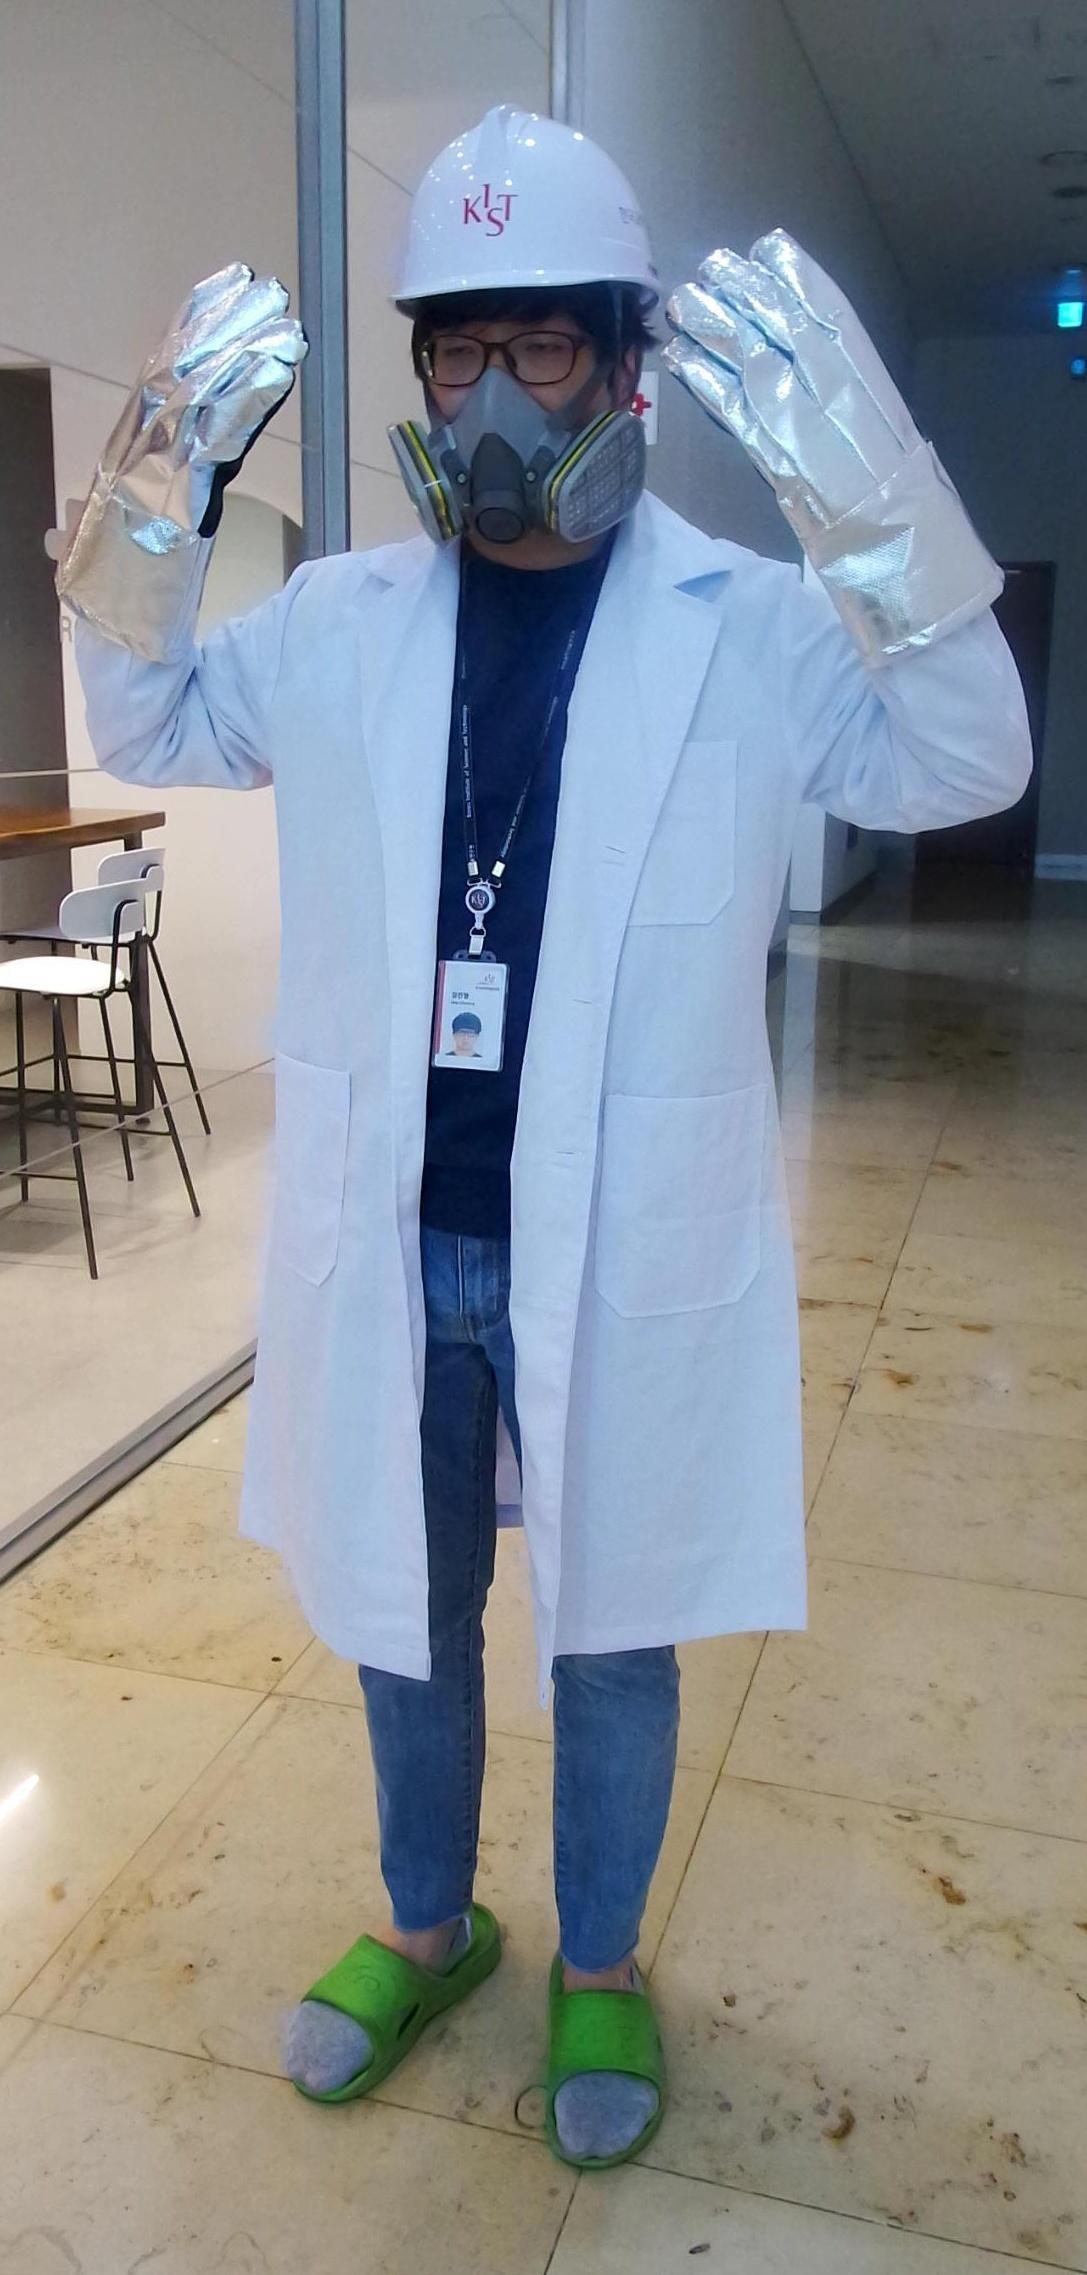lab_coat: (186, 566, 881, 1635)
